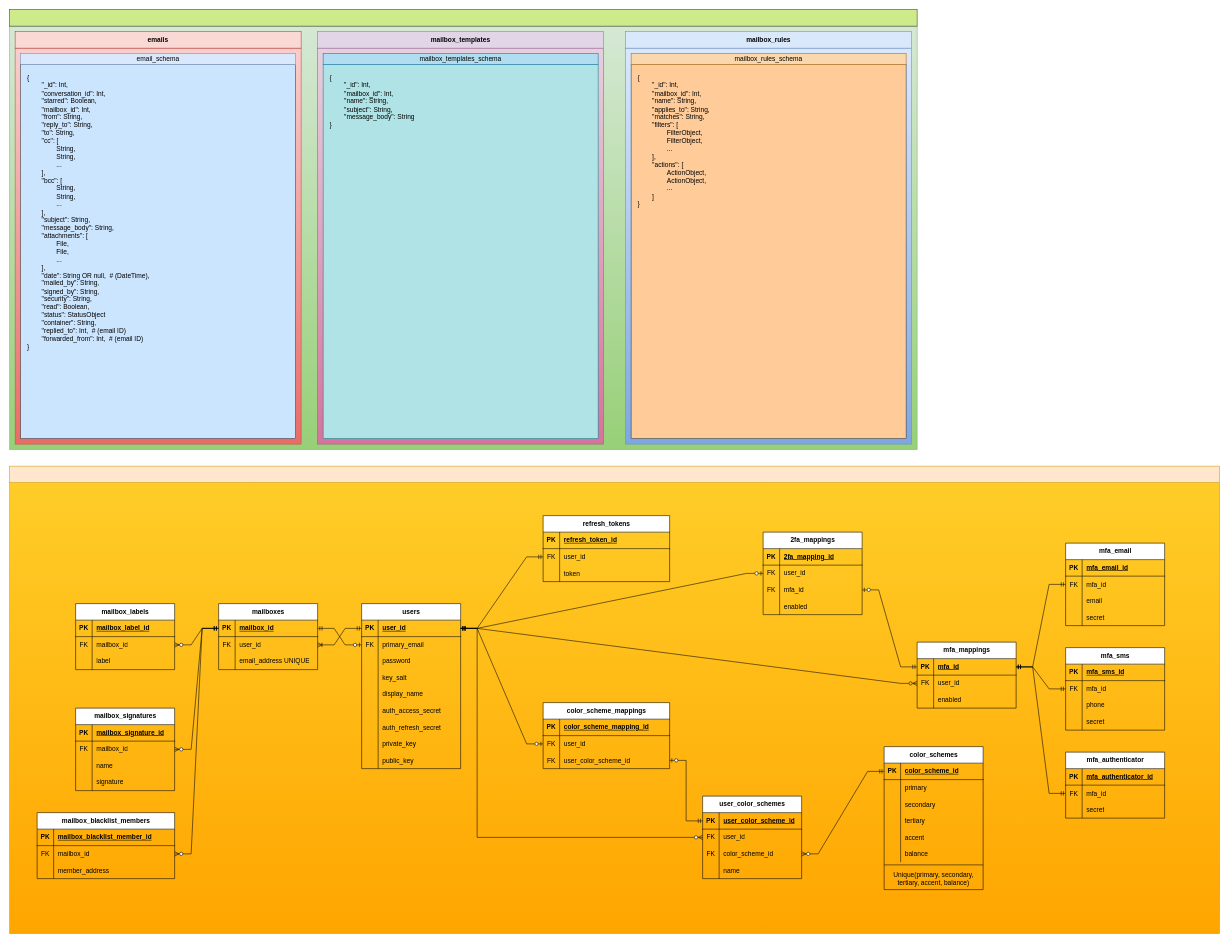
Image size: 1229x943. Some labels were removed from this diagram. The centre of each missing label's shape, as x and y in pixels:
"Document-based NoSQL Database" belongs at (x=463, y=17).
"SQL Database" belongs at (x=614, y=474).
